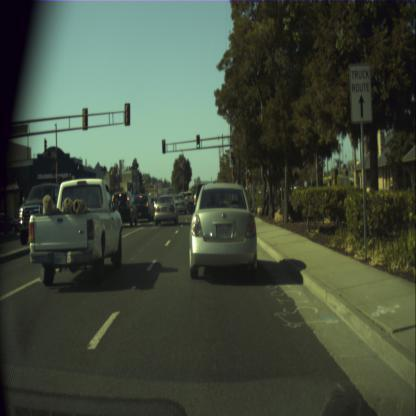Green: (196, 134, 200, 148), (230, 150, 234, 164), (246, 163, 250, 173)
Red: (162, 139, 166, 153), (246, 176, 250, 186), (194, 184, 196, 188)
